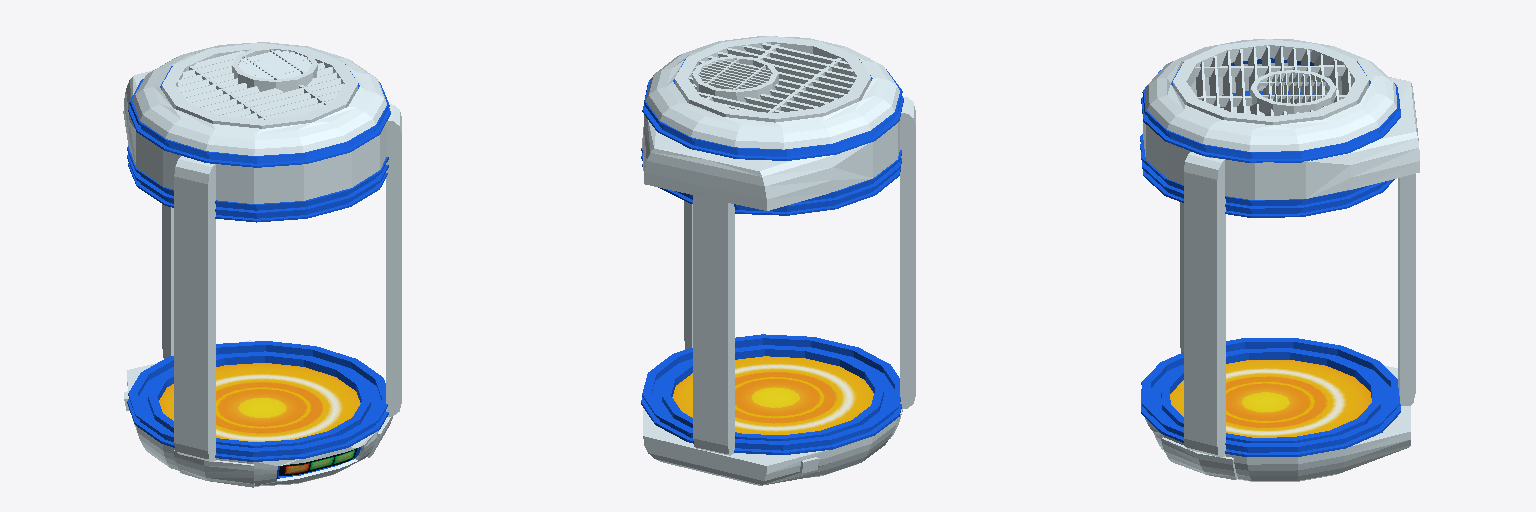
The picture shows the model from 3 angles: view 1: azimuth 30°, elevation 25°; view 2: azimuth 150°, elevation 25°; view 3: azimuth 270°, elevation 25°; orthographic projection.
Parts seen in each view (by area): view 1: incubator_IAP_geometry_0.001_incubator_IAP_geometry_0.001_I.000; view 2: incubator_IAP_geometry_0.001_incubator_IAP_geometry_0.001_I.000; view 3: incubator_IAP_geometry_0.001_incubator_IAP_geometry_0.001_I.000.
Part boxes in pixels (bbox=[...]): incubator_IAP_geometry_0.001_incubator_IAP_geometry_0.001_I.000: bbox=[123, 42, 401, 487]; incubator_IAP_geometry_0.001_incubator_IAP_geometry_0.001_I.000: bbox=[641, 36, 915, 485]; incubator_IAP_geometry_0.001_incubator_IAP_geometry_0.001_I.000: bbox=[1140, 39, 1419, 481].
Bounding box in the file's own units: 0.9004 × 1.35 × 0.9488.
Materials: 2 (2 with a texture image).